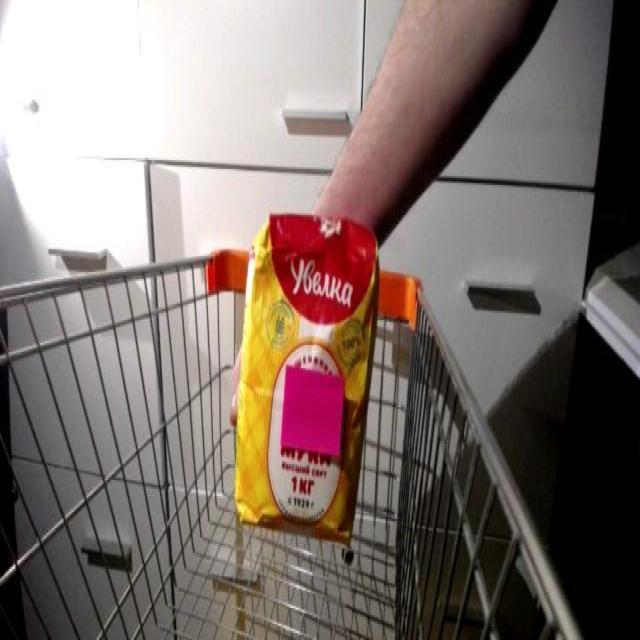Almond Milk: (229, 196, 384, 556)
